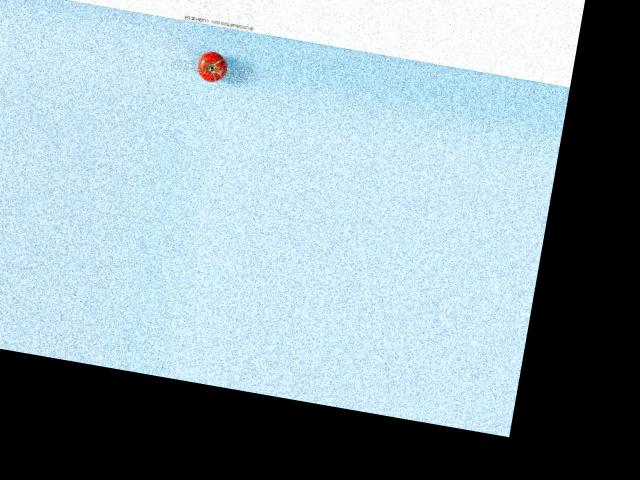tomato: (195, 48, 228, 83)
